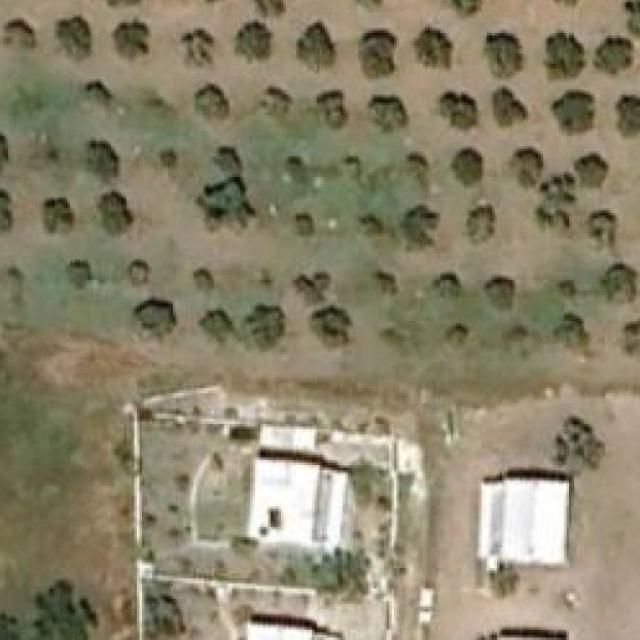Tree: (29, 580, 99, 640), (554, 416, 608, 475), (196, 180, 255, 226), (481, 30, 528, 79), (544, 31, 588, 82), (129, 298, 178, 342), (53, 14, 96, 64), (538, 175, 577, 226), (230, 20, 274, 64), (142, 597, 186, 640), (310, 306, 356, 346), (361, 28, 397, 77), (592, 36, 634, 77), (433, 92, 478, 130), (111, 20, 152, 61), (552, 92, 596, 130), (414, 28, 454, 69), (95, 192, 132, 236), (399, 206, 438, 247), (250, 303, 284, 350), (300, 22, 336, 64), (492, 88, 528, 128), (368, 98, 408, 134), (196, 308, 234, 344), (466, 203, 497, 247), (603, 264, 637, 304), (42, 194, 76, 233), (181, 28, 215, 67), (88, 141, 120, 180), (572, 154, 608, 188), (193, 85, 230, 118), (451, 148, 482, 187), (487, 560, 518, 599), (294, 272, 330, 304), (315, 92, 349, 124), (433, 272, 467, 304), (554, 310, 584, 346), (511, 154, 542, 188), (212, 141, 246, 172), (260, 88, 289, 121), (3, 20, 37, 48), (586, 211, 616, 242), (617, 94, 640, 130), (487, 278, 512, 308), (86, 79, 114, 105), (65, 259, 90, 288), (0, 611, 24, 640), (291, 208, 315, 237), (622, 0, 640, 38), (358, 216, 384, 242), (445, 0, 493, 14), (127, 259, 150, 288), (446, 323, 469, 352), (252, 0, 291, 17), (622, 318, 640, 354), (377, 270, 402, 295), (286, 154, 310, 180), (404, 151, 428, 177), (158, 146, 181, 170), (193, 268, 214, 293), (343, 154, 366, 175), (0, 187, 10, 235), (348, 0, 387, 12), (0, 133, 10, 174)
